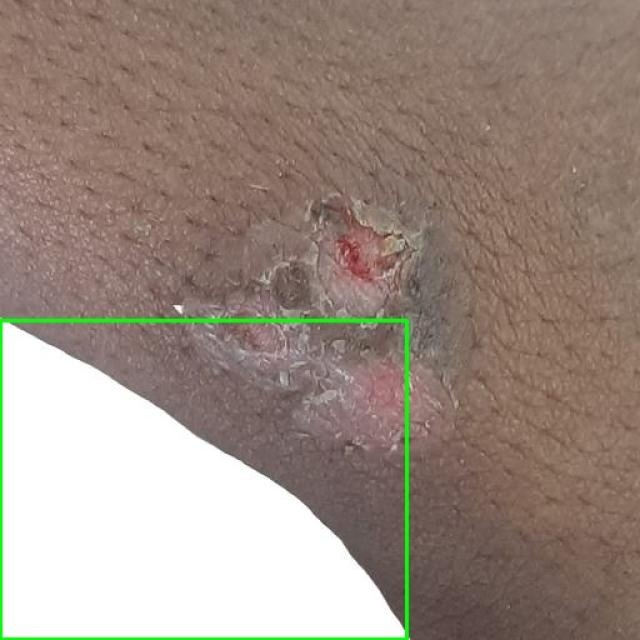Contact Dermatitis: (0, 320, 406, 639)
